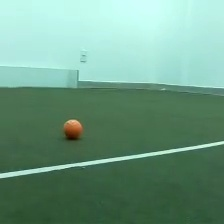ball: (61, 117, 85, 140)
goal: (1, 64, 81, 90)
